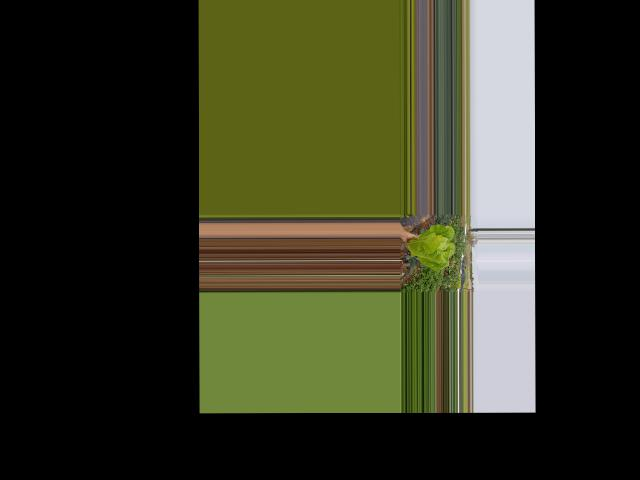lettuce: (403, 222, 455, 271)
